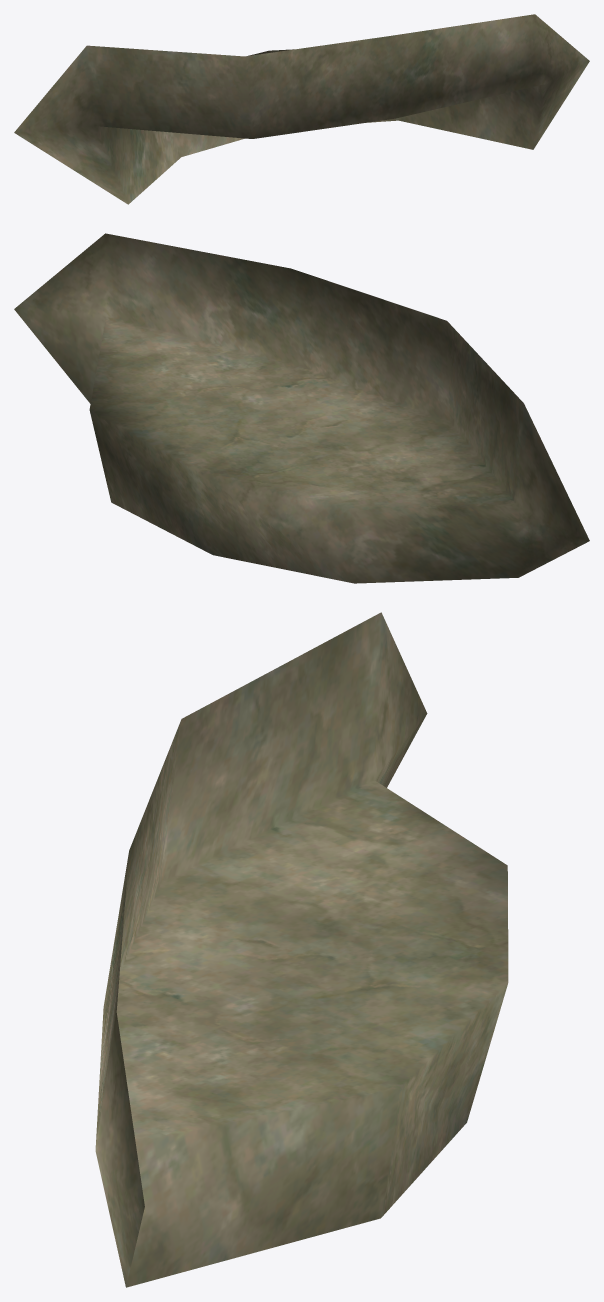
Rendered from EKH_CAVERNS_PS_CA_PLATFORM_9030.fbx.
3 views of the same model, one above another, from view 1: azimuth 30°, elevation 25°; view 2: azimuth 150°, elevation 25°; view 3: azimuth 270°, elevation 25° (orthographic). The views are drawn at different scales.
Visible parts, largest first — view 1: EKH_CAVERNS_PS_CA_PLATFORM_9030; view 2: EKH_CAVERNS_PS_CA_PLATFORM_9030; view 3: EKH_CAVERNS_PS_CA_PLATFORM_9030.
Part boxes in pixels (box(x1,y1,x2,y2)): EKH_CAVERNS_PS_CA_PLATFORM_9030: box(14, 14, 589, 204); EKH_CAVERNS_PS_CA_PLATFORM_9030: box(14, 233, 589, 583); EKH_CAVERNS_PS_CA_PLATFORM_9030: box(95, 612, 508, 1287).
Bounding box in the file's own units: 49963 × 14265 × 17677.
1 material, 1 textured.
